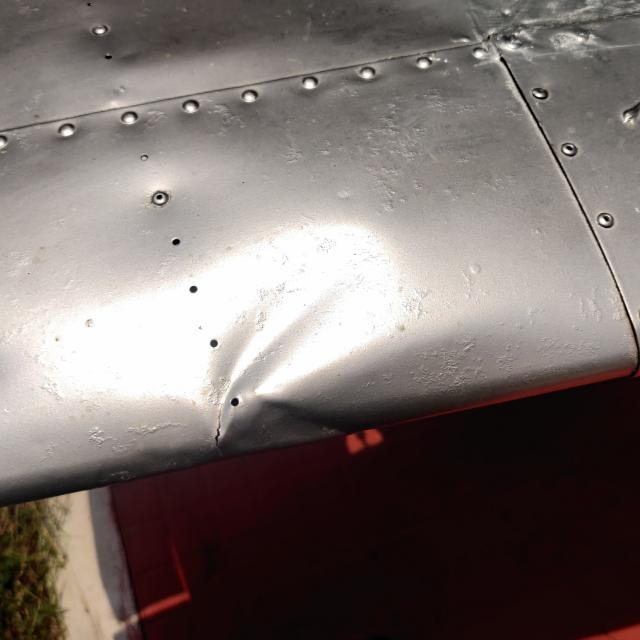crack: (206, 408, 239, 465)
dent: (177, 227, 404, 466)
